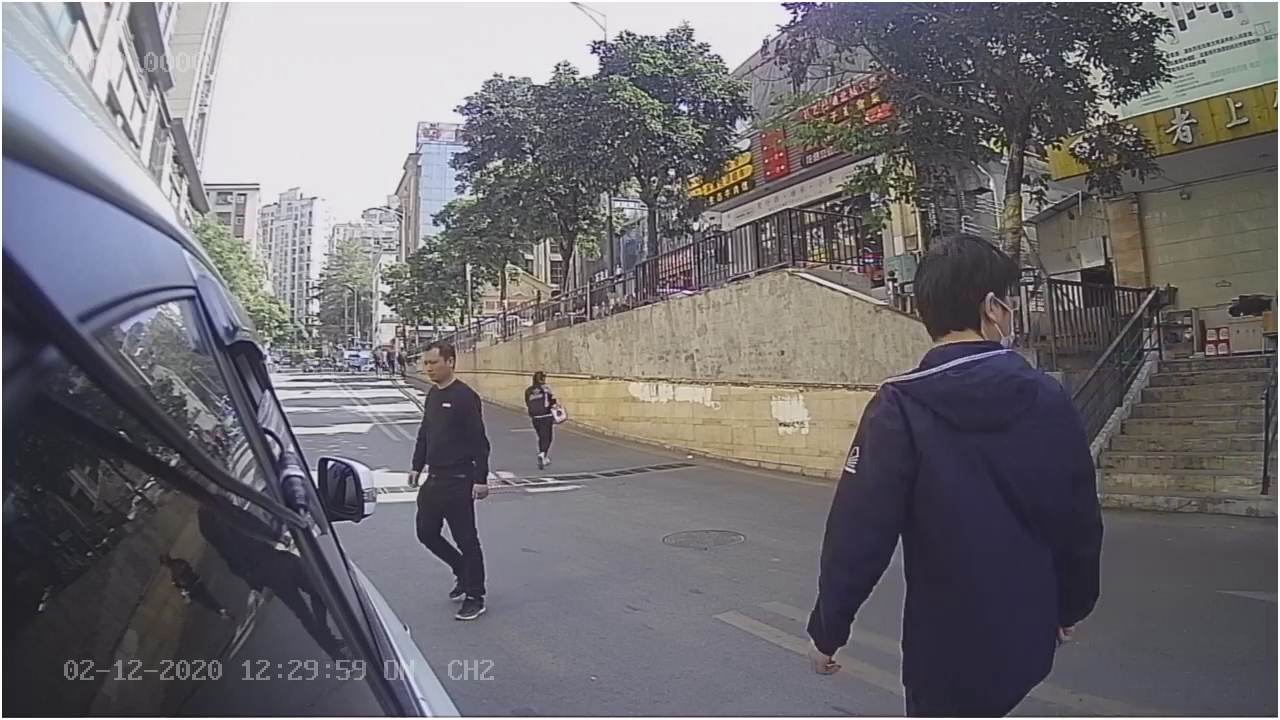person: (792, 223, 1102, 680), (403, 327, 500, 623)
